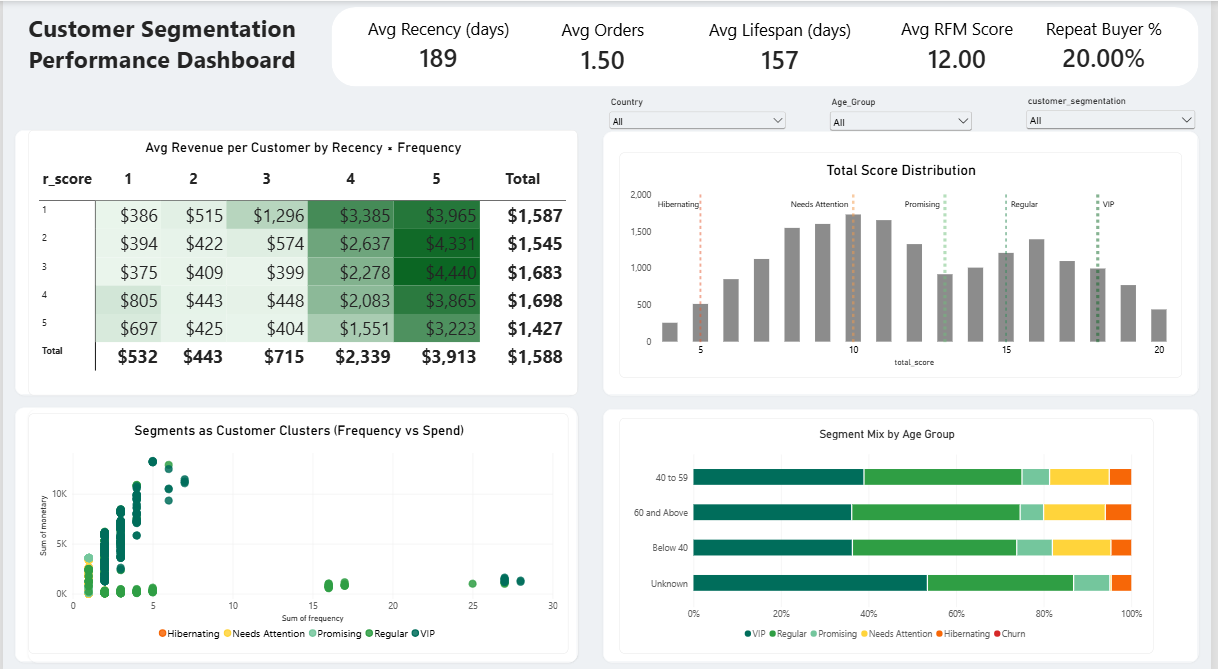

This screenshot's page, from the dashboard's own definition file:
{"tool":"powerbi","page":{"name":"Segment Deep-Dive","canvas":[1920,1080],"ordinal":1},"visuals":[{"type":"shape","box":[522.5,9.5,1379.1,126.5],"z":0},{"type":"shape","box":[954.4,207.6,947.2,419.9],"z":1000},{"type":"shape","box":[19.1,205.2,894.7,422.3],"z":2000},{"type":"shape","box":[19.1,646.6,894.7,405.6],"z":3000},{"type":"shape","box":[40.6,649,873.2,403.2],"z":4000},{"type":"cardVisual","fields":{"Data":["_measure.Avg Customer Lifespan (days)"]},"box":[1080.8,19.1,310.2,109.8],"z":5000},{"type":"cardVisual","fields":{"Data":["_measure.Avg RFM Score"]},"box":[1412.5,16.7,210,110],"z":6000},{"type":"cardVisual","fields":{"Data":["_measure.Avg Days Since Last Order"]},"box":[560.7,16.7,264.8,109.8],"z":7000},{"type":"cardVisual","fields":{"Data":["_measure.Repeat Buyer Rate"]},"box":[1622.4,16.7,257.7,109.8],"z":8000},{"type":"cardVisual","fields":{"Data":["_measure.Avg Orders per Customer"]},"box":[827.9,19.1,252.9,109.8],"z":9000},{"type":"pivotTable","title":"Avg Revenue per Customer by Recency × Frequency","fields":{"Columns":["rfm_customer_segments.f_score"],"Rows":["rfm_customer_segments.r_score"],"Values":["_measure.Avg Revenue per Customer"]},"box":[40.6,205.2,873.2,422.3],"z":10000},{"type":"shape","box":[954.4,649,947.2,403.2],"z":11000},{"type":"textbox","box":[40.6,16.7,482,162.2],"z":12000},{"type":"slicer","fields":{"Values":["rfm_customer_segments.country"]},"box":[959.1,152.7,291.1,54.9],"z":13000},{"type":"slicer","fields":{"Values":["rfm_customer_segments.age_bracket"]},"box":[1309.9,152.7,236.2,54.9],"z":14000},{"type":"clusteredColumnChart","title":"Total Score Distribution","fields":{"Category":["rfm_customer_segments.total_score"],"Y":["CountNonNull(rfm_customer_segments.customer_key)"]},"box":[980.6,241,894.7,357.9],"z":15000},{"type":"scatterChart","title":"Segments as Customer Clusters (Frequency vs Spend)","fields":{"Category":["rfm_customer_segments.customer_key"],"Series":["rfm_customer_segments.customer_segmentation"],"X":["Sum(rfm_customer_segments.frequency)"],"Y":["Sum(rfm_customer_segments.monetary)"]},"box":[40.6,656.1,858.9,381.7],"z":16000},{"type":"hundredPercentStackedBarChart","title":"Segment Mix by Age Group","fields":{"Category":["rfm_customer_segments.age_bracket"],"Series":["rfm_customer_segments.customer_segmentation"],"Y":["_measure.Total Revenue"]},"box":[980.6,663.3,849.4,374.6],"z":16001},{"type":"slicer","fields":{"Values":["rfm_customer_segments.customer_segmentation"]},"box":[1622.4,150.3,279.2,54.9],"z":16002}]}

Visuals, with their boxes in screenshot pixels (x1, y1, x2, y2), scaled from the page's 1920x1080 canvas onto the 1218x669 screenshot:
shape: rect(331, 6, 1206, 84)
shape: rect(605, 129, 1206, 389)
shape: rect(12, 127, 580, 389)
shape: rect(12, 401, 580, 652)
shape: rect(26, 402, 580, 652)
cardVisual - _measure.Avg Customer Lifespan (days): rect(686, 12, 882, 80)
cardVisual - _measure.Avg RFM Score: rect(896, 10, 1029, 78)
cardVisual - _measure.Avg Days Since Last Order: rect(356, 10, 524, 78)
cardVisual - _measure.Repeat Buyer Rate: rect(1029, 10, 1193, 78)
cardVisual - _measure.Avg Orders per Customer: rect(525, 12, 686, 80)
"Avg Revenue per Customer by Recency × Frequency" pivotTable: rect(26, 127, 580, 389)
shape: rect(605, 402, 1206, 652)
textbox: rect(26, 10, 332, 111)
slicer - rfm_customer_segments.country: rect(608, 95, 793, 129)
slicer - rfm_customer_segments.age_bracket: rect(831, 95, 981, 129)
"Total Score Distribution" clusteredColumnChart: rect(622, 149, 1190, 371)
"Segments as Customer Clusters (Frequency vs Spend)" scatterChart: rect(26, 406, 571, 643)
"Segment Mix by Age Group" hundredPercentStackedBarChart: rect(622, 411, 1161, 643)
slicer - rfm_customer_segments.customer_segmentation: rect(1029, 93, 1206, 127)
